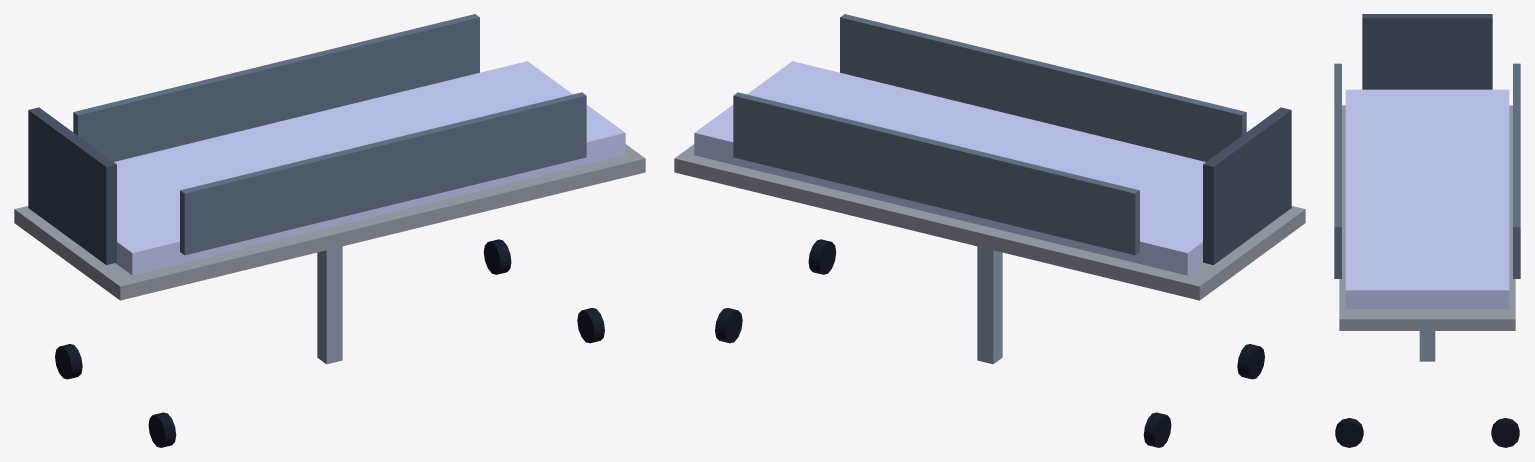
File: parametric-source.glb
3 views of the same model, side by side, from view 1: azimuth 30°, elevation 25°; view 2: azimuth 150°, elevation 25°; view 3: azimuth 270°, elevation 25° (orthographic). The views are drawn at different scales.
Visible parts, largest first — view 1: openclinxr.equipment.stretcher_equipment.mattress_deck, openclinxr.equipment.stretcher_equipment.rail_right, openclinxr.equipment.stretcher_equipment.rail_left, openclinxr.equipment.stretcher_equipment.frame, openclinxr.equipment.stretcher_equipment.push_bar, openclinxr.equipment.stretcher_equipment.column, openclinxr.equipment.stretcher_equipment.caster_2, openclinxr.equipment.stretcher_equipment.caster_0, openclinxr.equipment.stretcher_equipment.caster_1, openclinxr.equipment.stretcher_equipment.caster_3; view 2: openclinxr.equipment.stretcher_equipment.mattress_deck, openclinxr.equipment.stretcher_equipment.rail_left, openclinxr.equipment.stretcher_equipment.rail_right, openclinxr.equipment.stretcher_equipment.frame, openclinxr.equipment.stretcher_equipment.push_bar, openclinxr.equipment.stretcher_equipment.column, openclinxr.equipment.stretcher_equipment.caster_0, openclinxr.equipment.stretcher_equipment.caster_1, openclinxr.equipment.stretcher_equipment.caster_2, openclinxr.equipment.stretcher_equipment.caster_3; view 3: openclinxr.equipment.stretcher_equipment.mattress_deck, openclinxr.equipment.stretcher_equipment.push_bar, openclinxr.equipment.stretcher_equipment.frame, openclinxr.equipment.stretcher_equipment.rail_left, openclinxr.equipment.stretcher_equipment.rail_right, openclinxr.equipment.stretcher_equipment.caster_1, openclinxr.equipment.stretcher_equipment.caster_3, openclinxr.equipment.stretcher_equipment.column.
Boxes of the visible parts, x1=… form: openclinxr.equipment.stretcher_equipment.mattress_deck: x1=114, y1=61, x2=625, y2=275; openclinxr.equipment.stretcher_equipment.rail_right: x1=180, y1=92, x2=586, y2=255; openclinxr.equipment.stretcher_equipment.rail_left: x1=73, y1=14, x2=479, y2=161; openclinxr.equipment.stretcher_equipment.frame: x1=14, y1=144, x2=645, y2=300; openclinxr.equipment.stretcher_equipment.push_bar: x1=28, y1=107, x2=116, y2=264; openclinxr.equipment.stretcher_equipment.column: x1=317, y1=246, x2=342, y2=364; openclinxr.equipment.stretcher_equipment.caster_2: x1=148, y1=412, x2=176, y2=447; openclinxr.equipment.stretcher_equipment.caster_0: x1=55, y1=344, x2=82, y2=379; openclinxr.equipment.stretcher_equipment.caster_1: x1=483, y1=239, x2=511, y2=274; openclinxr.equipment.stretcher_equipment.caster_3: x1=577, y1=308, x2=604, y2=343; openclinxr.equipment.stretcher_equipment.mattress_deck: x1=694, y1=61, x2=1205, y2=275; openclinxr.equipment.stretcher_equipment.rail_left: x1=733, y1=92, x2=1139, y2=255; openclinxr.equipment.stretcher_equipment.rail_right: x1=840, y1=14, x2=1246, y2=161; openclinxr.equipment.stretcher_equipment.frame: x1=674, y1=144, x2=1305, y2=300; openclinxr.equipment.stretcher_equipment.push_bar: x1=1203, y1=107, x2=1291, y2=264; openclinxr.equipment.stretcher_equipment.column: x1=977, y1=246, x2=1002, y2=364; openclinxr.equipment.stretcher_equipment.caster_0: x1=1143, y1=412, x2=1171, y2=447; openclinxr.equipment.stretcher_equipment.caster_1: x1=715, y1=308, x2=742, y2=343; openclinxr.equipment.stretcher_equipment.caster_2: x1=1237, y1=344, x2=1264, y2=379; openclinxr.equipment.stretcher_equipment.caster_3: x1=808, y1=239, x2=836, y2=274; openclinxr.equipment.stretcher_equipment.mattress_deck: x1=1345, y1=89, x2=1509, y2=308; openclinxr.equipment.stretcher_equipment.push_bar: x1=1362, y1=14, x2=1492, y2=89; openclinxr.equipment.stretcher_equipment.frame: x1=1339, y1=105, x2=1515, y2=330; openclinxr.equipment.stretcher_equipment.rail_left: x1=1513, y1=63, x2=1520, y2=278; openclinxr.equipment.stretcher_equipment.rail_right: x1=1334, y1=63, x2=1341, y2=278; openclinxr.equipment.stretcher_equipment.caster_1: x1=1491, y1=418, x2=1519, y2=447; openclinxr.equipment.stretcher_equipment.caster_3: x1=1335, y1=418, x2=1363, y2=447; openclinxr.equipment.stretcher_equipment.column: x1=1419, y1=331, x2=1435, y2=361.
Bounding box in the file's own units: 1.96 × 1.01 × 0.7212.
